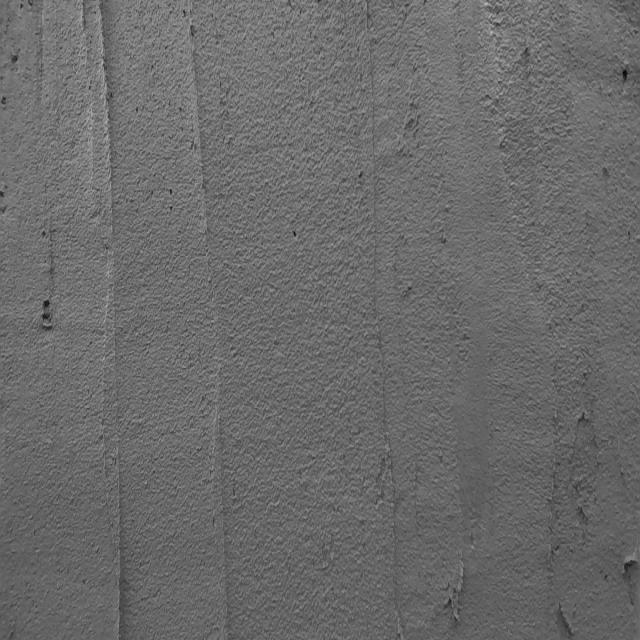trowels marks: (91, 4, 126, 640), (364, 11, 382, 371), (189, 30, 214, 244), (214, 416, 237, 640)
